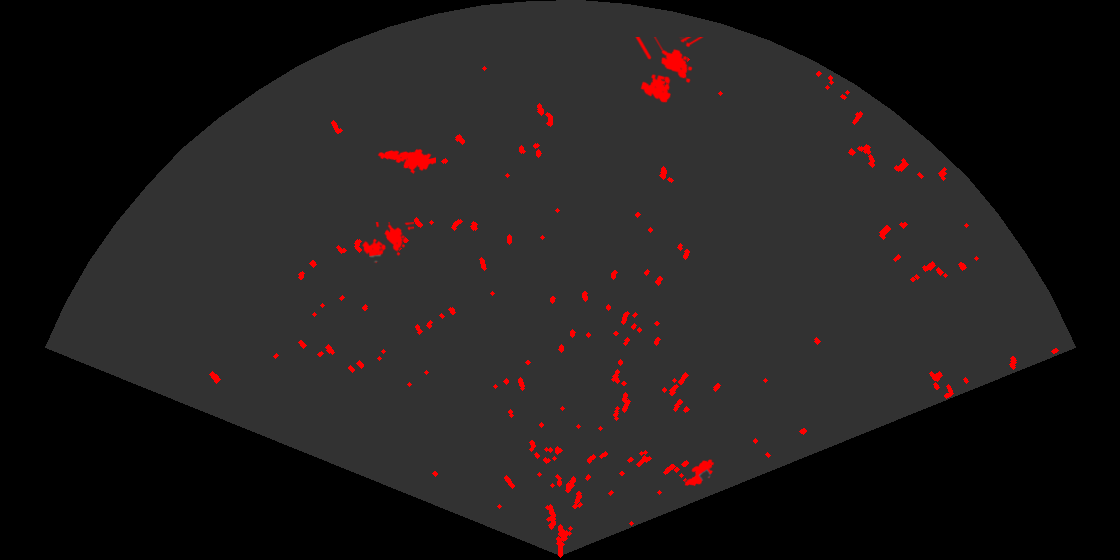AUV: (683, 458, 716, 488)
cage: (634, 37, 705, 104), (360, 222, 414, 265)
frogman: (376, 147, 436, 176)
